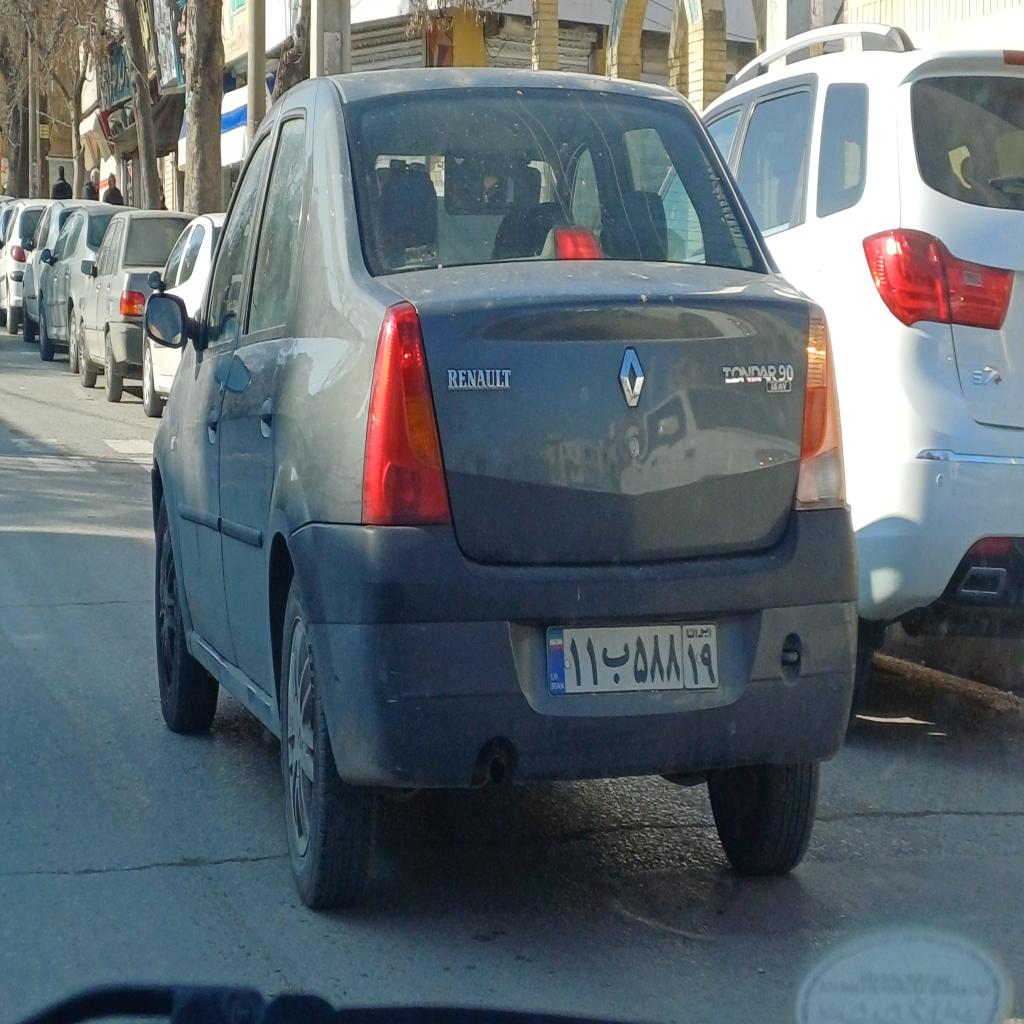Plates: (546, 623, 721, 695)
